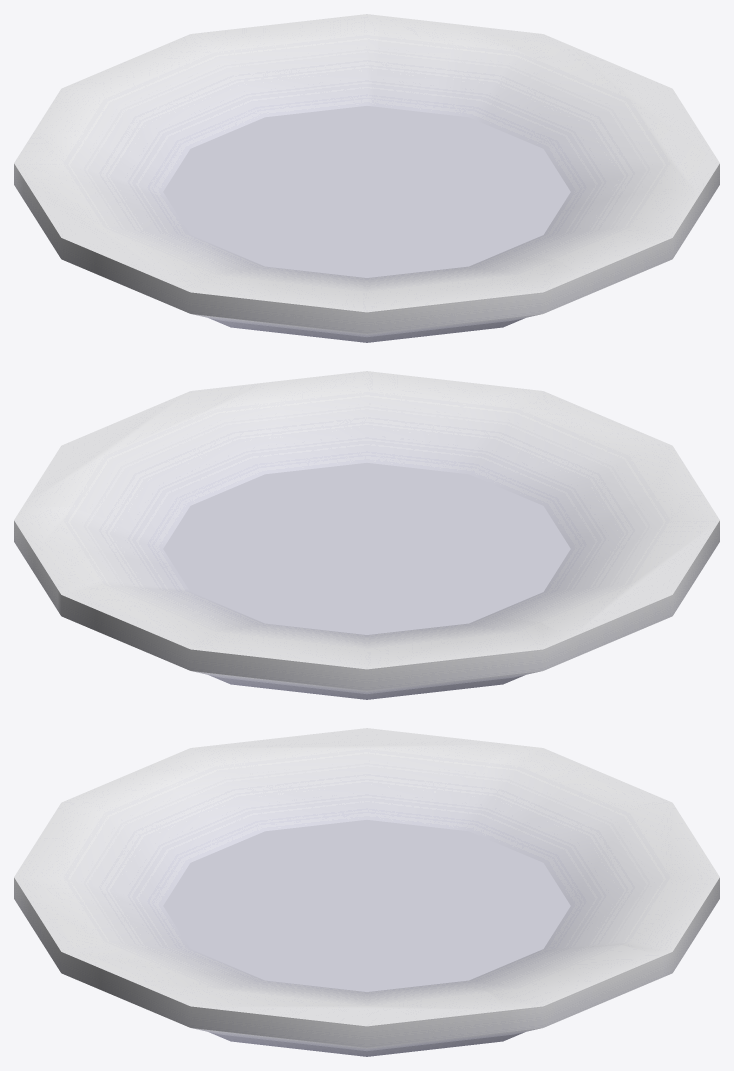
Rendered from plate-broken.glb.
The picture shows the model from 3 angles, top to bottom: view 1: azimuth 30°, elevation 25°; view 2: azimuth 150°, elevation 25°; view 3: azimuth 270°, elevation 25°; orthographic projection.
Parts seen in each view (by area): view 1: piece (×8); view 2: piece (×8); view 3: piece (×8).
Part boxes in pixels (x1,y1,x2,y2): piece (×8): (14, 14, 719, 342); piece (×8): (14, 371, 719, 699); piece (×8): (14, 728, 719, 1056).
Size of the model in its own units: 0.8918 by 0.09 by 0.8918.
Materials: 1 (1 with a texture image).
